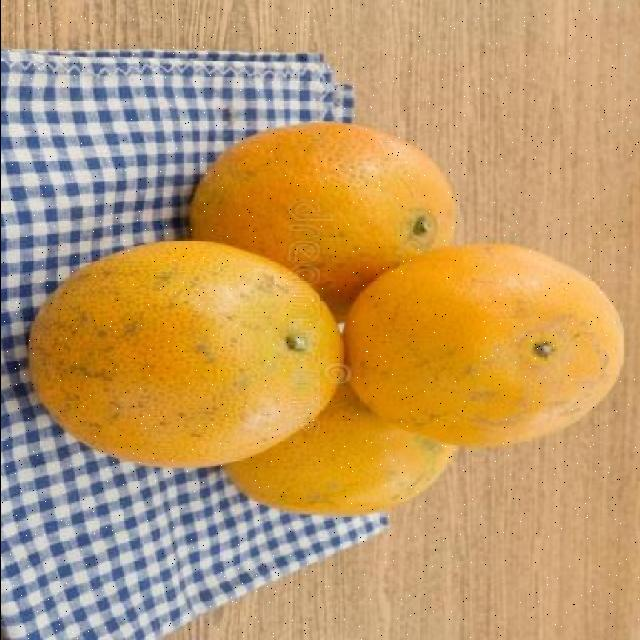Orange: (28, 237, 346, 469), (343, 242, 626, 448), (188, 120, 460, 320), (223, 380, 455, 517)
